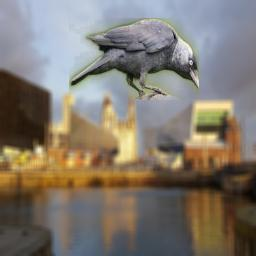Crow: (69, 18, 199, 100)
